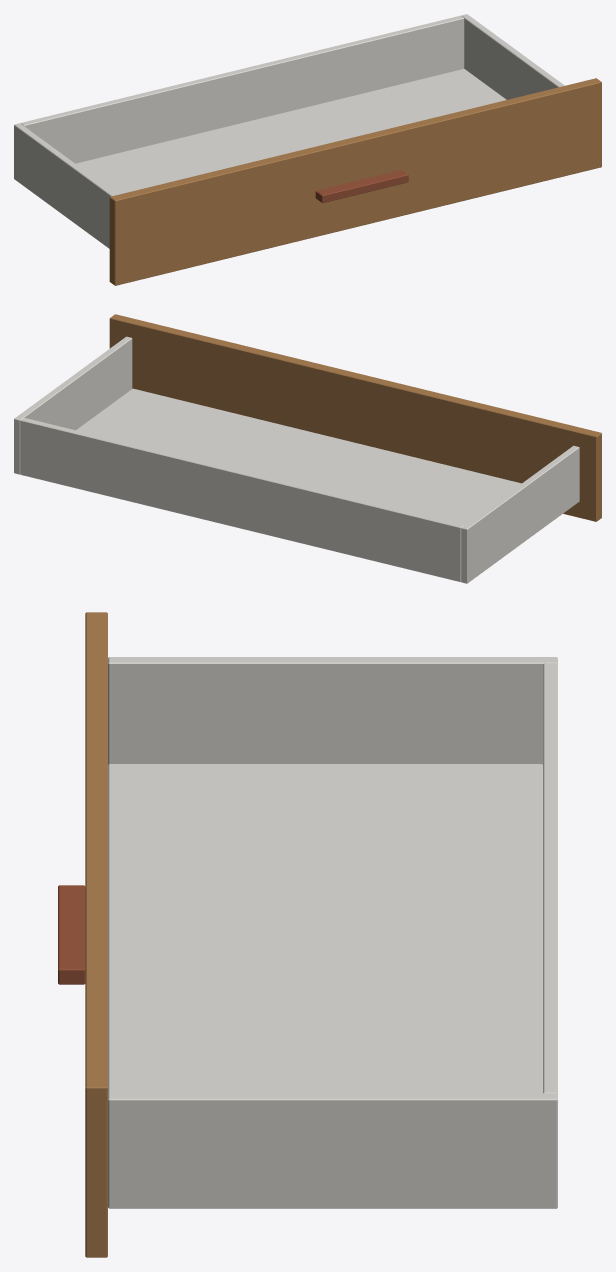
File: glass_door_display_drawers_lower_drawer.glb
3 views of the same model, one above another, from view 1: azimuth 30°, elevation 25°; view 2: azimuth 150°, elevation 25°; view 3: azimuth 270°, elevation 25° (orthographic). The views are drawn at different scales.
Visible parts, largest first — view 1: glass_door_display_drawers_lower_drawer.001; view 2: glass_door_display_drawers_lower_drawer.001; view 3: glass_door_display_drawers_lower_drawer.001.
Boxes of the visible parts, left/top/right/bottom form: glass_door_display_drawers_lower_drawer.001: left=14, top=14, right=601, bottom=285; glass_door_display_drawers_lower_drawer.001: left=14, top=314, right=601, bottom=583; glass_door_display_drawers_lower_drawer.001: left=58, top=612, right=557, bottom=1257.
Bounding box in the file's own units: 0.9 × 0.151 × 0.4.
